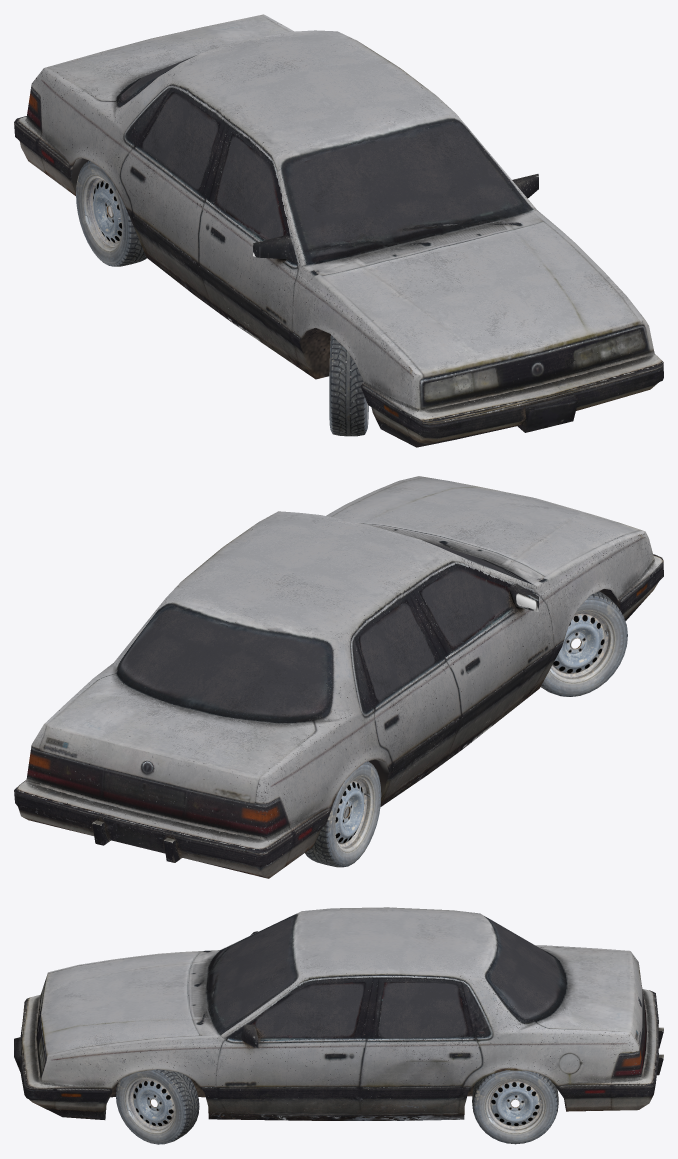
3 renders of one model, top to bottom at view 1: azimuth 30°, elevation 25°; view 2: azimuth 150°, elevation 25°; view 3: azimuth 270°, elevation 25°, orthographic. The views are drawn at different scales.
Visible parts, largest first — view 1: LowPoly, Wheel.003, Wheel.002; view 2: LowPoly, Wheel.002, Wheel.003; view 3: LowPoly, Wheel.001, Wheel.
Part boxes in pixels (left/top/right/bottom): LowPoly: left=14, top=14, right=663, bottom=447; Wheel.003: left=76, top=160, right=146, bottom=266; Wheel.002: left=329, top=335, right=368, bottom=436; LowPoly: left=14, top=476, right=663, bottom=878; Wheel.002: left=541, top=591, right=627, bottom=696; Wheel.003: left=305, top=761, right=381, bottom=867; LowPoly: left=14, top=907, right=663, bottom=1120; Wheel.001: left=472, top=1070, right=558, bottom=1144; Wheel: left=116, top=1069, right=199, bottom=1144.
Size of the model in its own units: 1.96 by 1.34 by 4.82.
2 materials, 2 textured.
